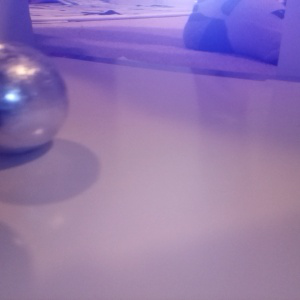alive_ball: (1, 37, 69, 153)
